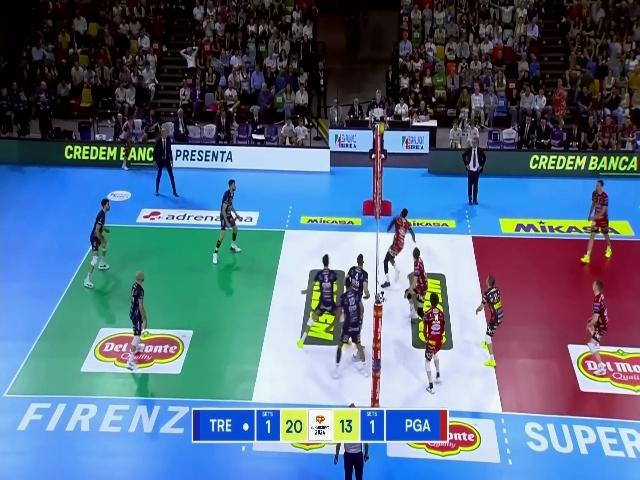volleyball court: (4, 225, 640, 422)
